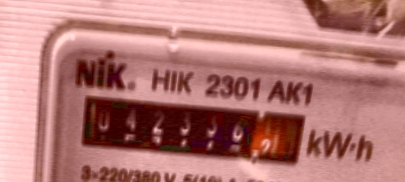0: (96, 101, 109, 131)
2: (148, 105, 166, 132)
3: (175, 105, 191, 134), (204, 107, 218, 135)
4: (122, 103, 138, 130)
6: (229, 113, 244, 141)
screen: (70, 84, 312, 170)
